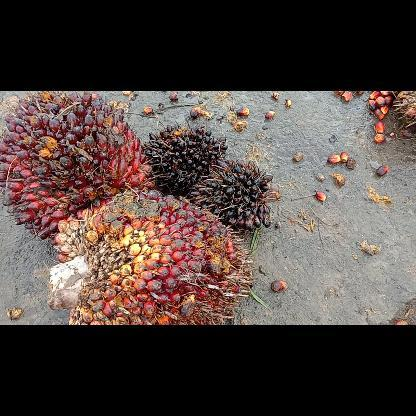TBS abnormal: (140, 122, 230, 200), (186, 156, 280, 230)
TBS masak: (46, 184, 256, 324), (0, 91, 158, 241)
